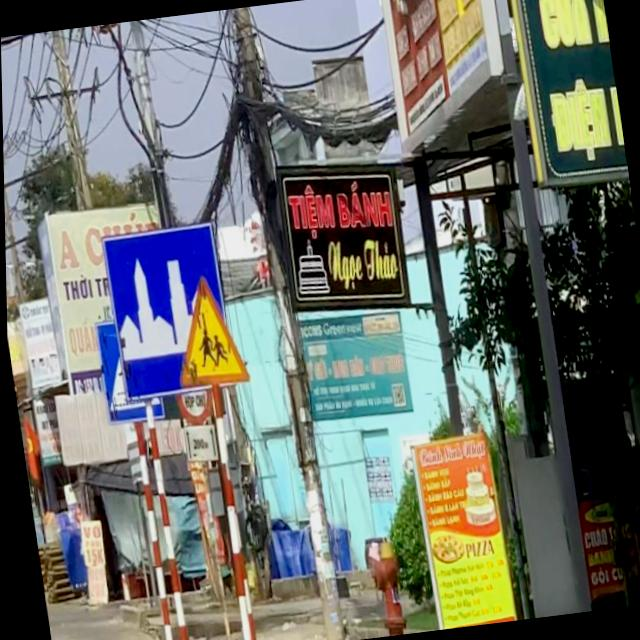Tre em: (164, 270, 249, 390)
